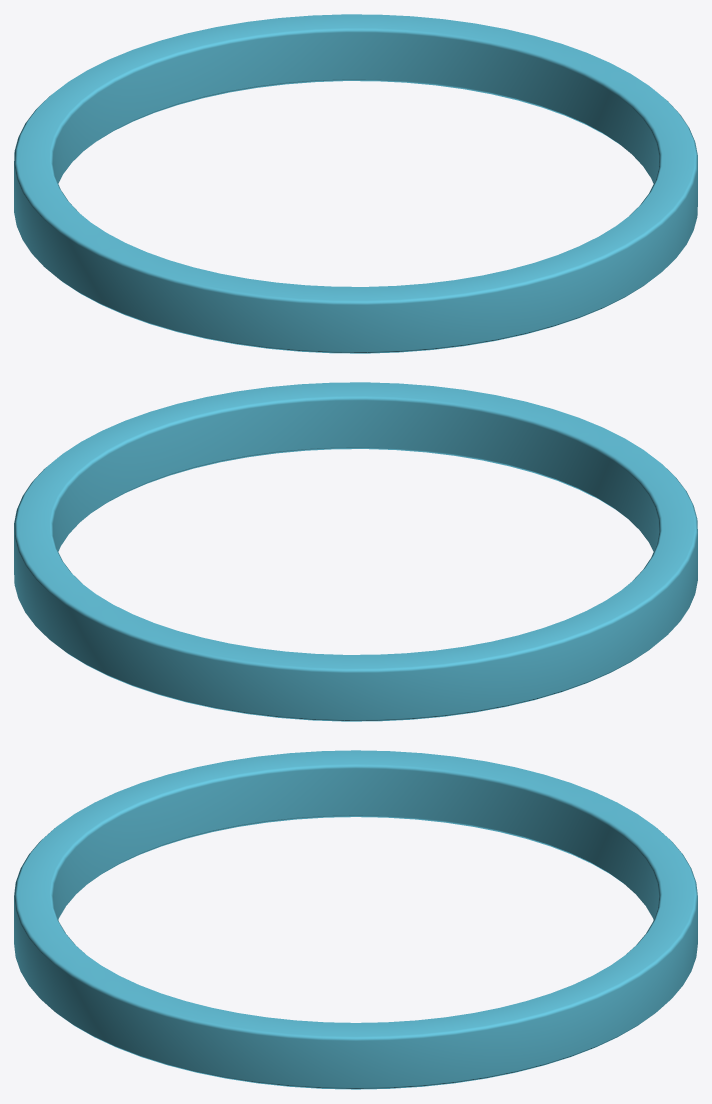
The picture shows the model from 3 angles, top to bottom: view 1: azimuth 30°, elevation 25°; view 2: azimuth 150°, elevation 25°; view 3: azimuth 270°, elevation 25°; orthographic projection.
Parts seen in each view (by area): view 1: seal_body; view 2: seal_body; view 3: seal_body.
Boxes of the visible parts, bbox=[...] form: seal_body: bbox=[14, 14, 697, 353]; seal_body: bbox=[14, 382, 697, 721]; seal_body: bbox=[14, 750, 697, 1089].
Size of the model in its own units: 0.1111 by 0.00952 by 0.1111.
